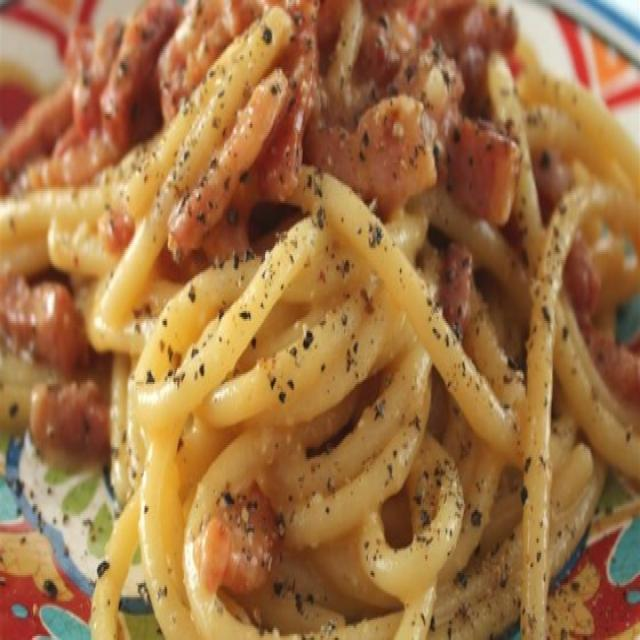Pasta with carbonara sauce: (43, 2, 615, 622)
